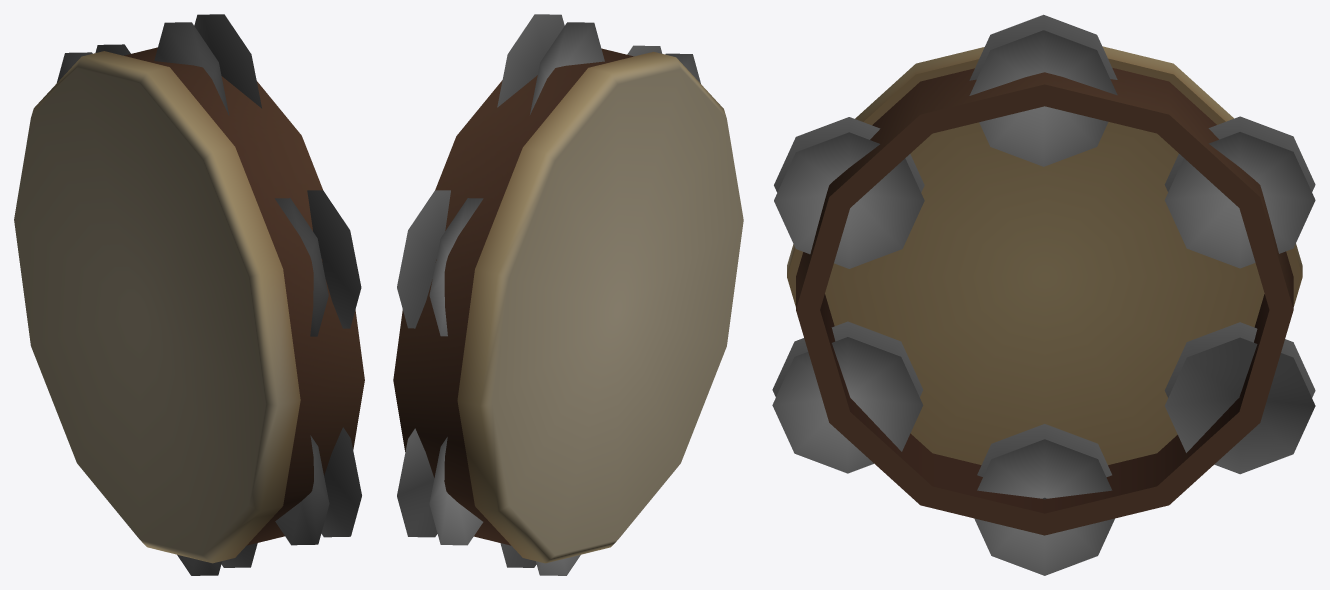
The model's file is grenade_Tambourine.glb.
3 renders of one model, left to right at view 1: azimuth 30°, elevation 25°; view 2: azimuth 150°, elevation 25°; view 3: azimuth 270°, elevation 25°, orthographic.
Visible parts, largest first — view 1: grenade_Tambourine; view 2: grenade_Tambourine; view 3: grenade_Tambourine.
Boxes of the visible parts, x1,y1,x2,y2 form: grenade_Tambourine: (14,14,364,575); grenade_Tambourine: (393,14,743,575); grenade_Tambourine: (772,14,1315,575).
Bounding box in the file's own units: 0.0313 × 0.168 × 0.1515.
